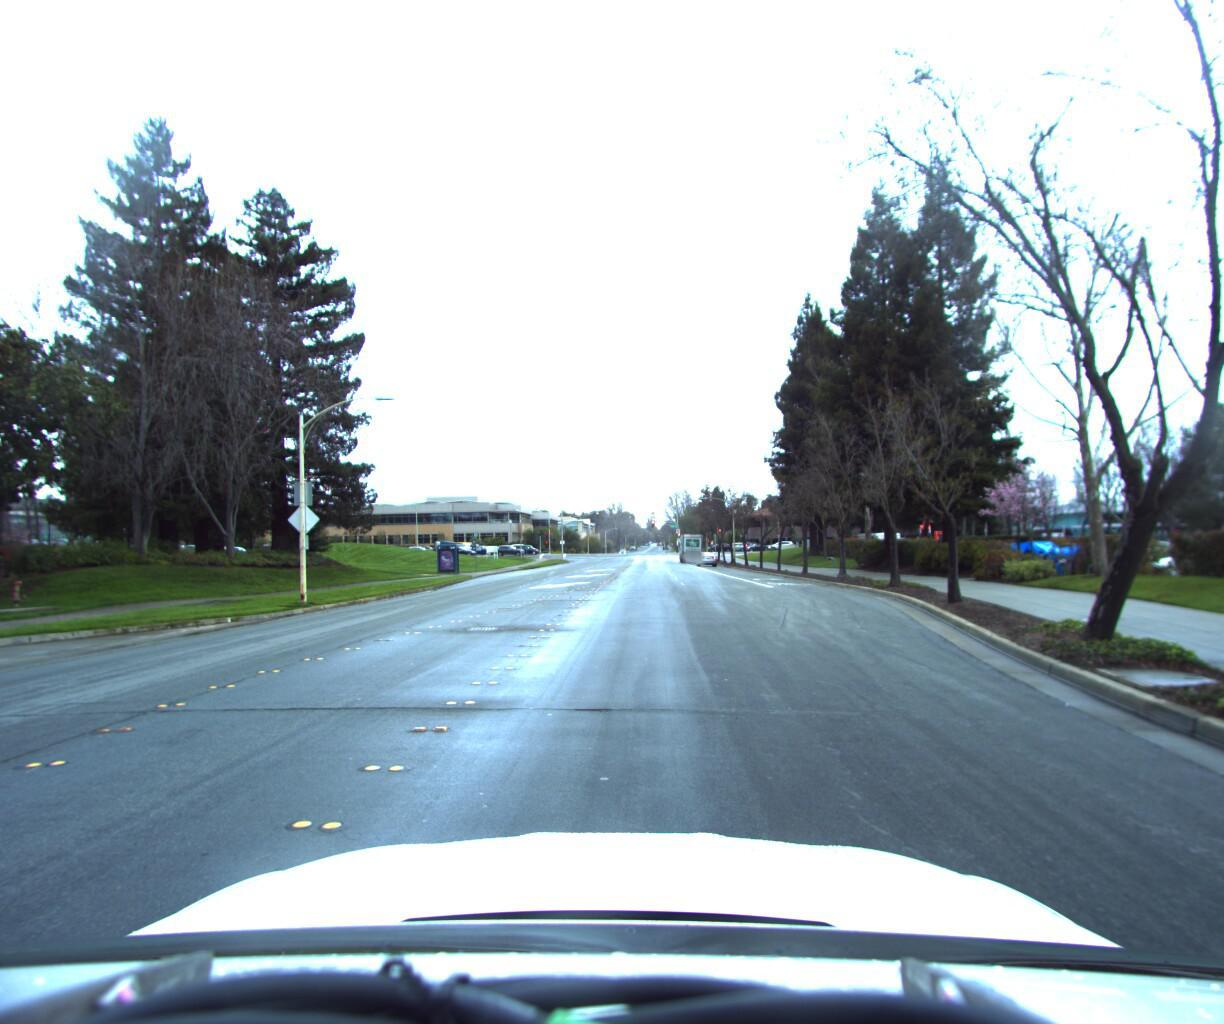car: (695, 550, 716, 567)
